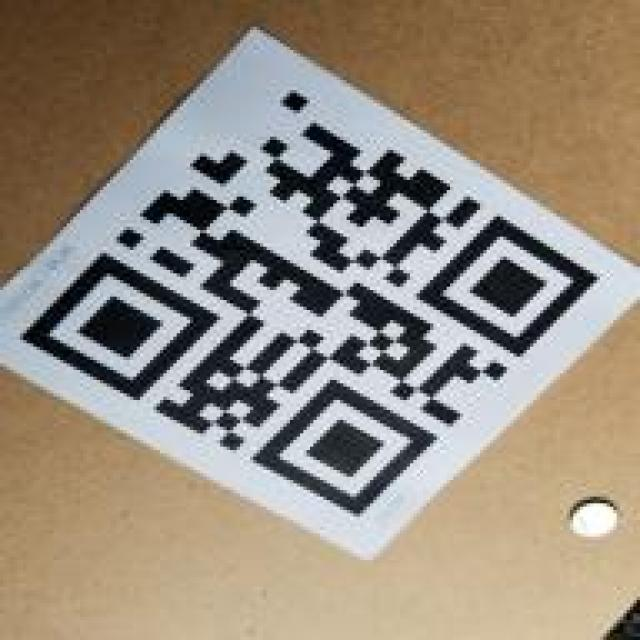qr_code: (18, 83, 601, 519)
